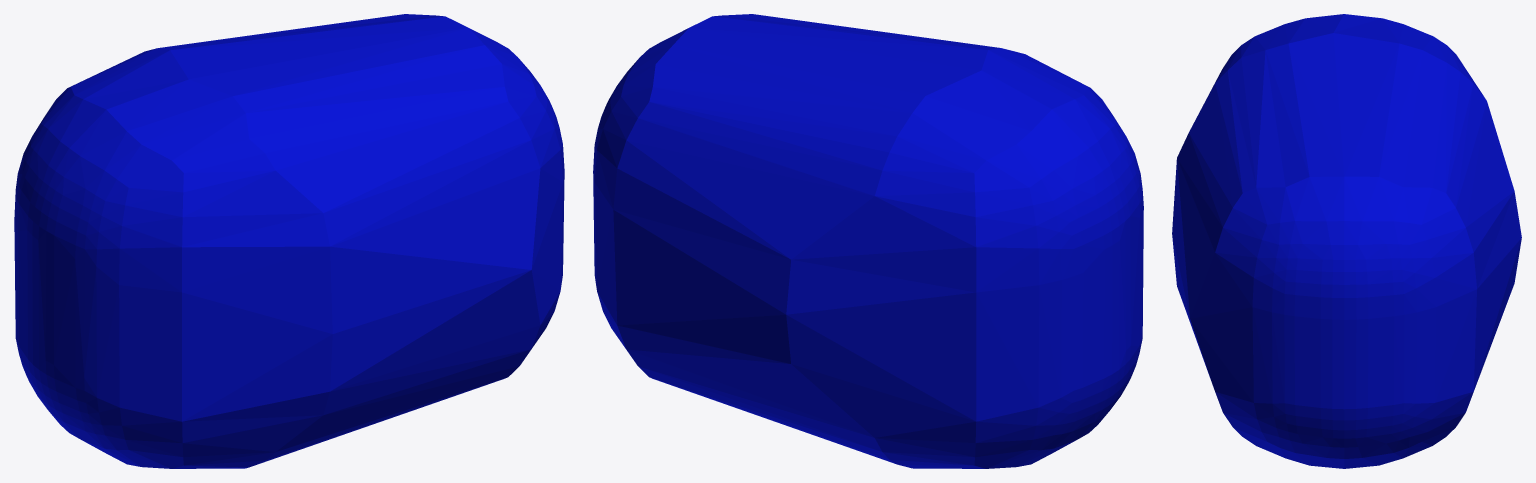
Rendered from COL_hollie_real.027.dae.
The picture shows the model from 3 angles, left to right: view 1: azimuth 30°, elevation 25°; view 2: azimuth 150°, elevation 25°; view 3: azimuth 270°, elevation 25°; orthographic projection. The views are drawn at different scales.
Parts seen in each view (by area): view 1: COL_COL_COL_VIS_VIS_VIS_VIS_VIS_VIS_VIS_VIS_VIS_hollie_real_; view 2: COL_COL_COL_VIS_VIS_VIS_VIS_VIS_VIS_VIS_VIS_VIS_hollie_real_; view 3: COL_COL_COL_VIS_VIS_VIS_VIS_VIS_VIS_VIS_VIS_VIS_hollie_real_.
Boxes of the visible parts, x1,y1,x2,y2 form: COL_COL_COL_VIS_VIS_VIS_VIS_VIS_VIS_VIS_VIS_VIS_hollie_real_: (14,14,564,468); COL_COL_COL_VIS_VIS_VIS_VIS_VIS_VIS_VIS_VIS_VIS_hollie_real_: (593,14,1143,468); COL_COL_COL_VIS_VIS_VIS_VIS_VIS_VIS_VIS_VIS_VIS_hollie_real_: (1172,14,1521,468).
Size of the model in its own units: 0.0835 by 0.0568 by 0.0596.
